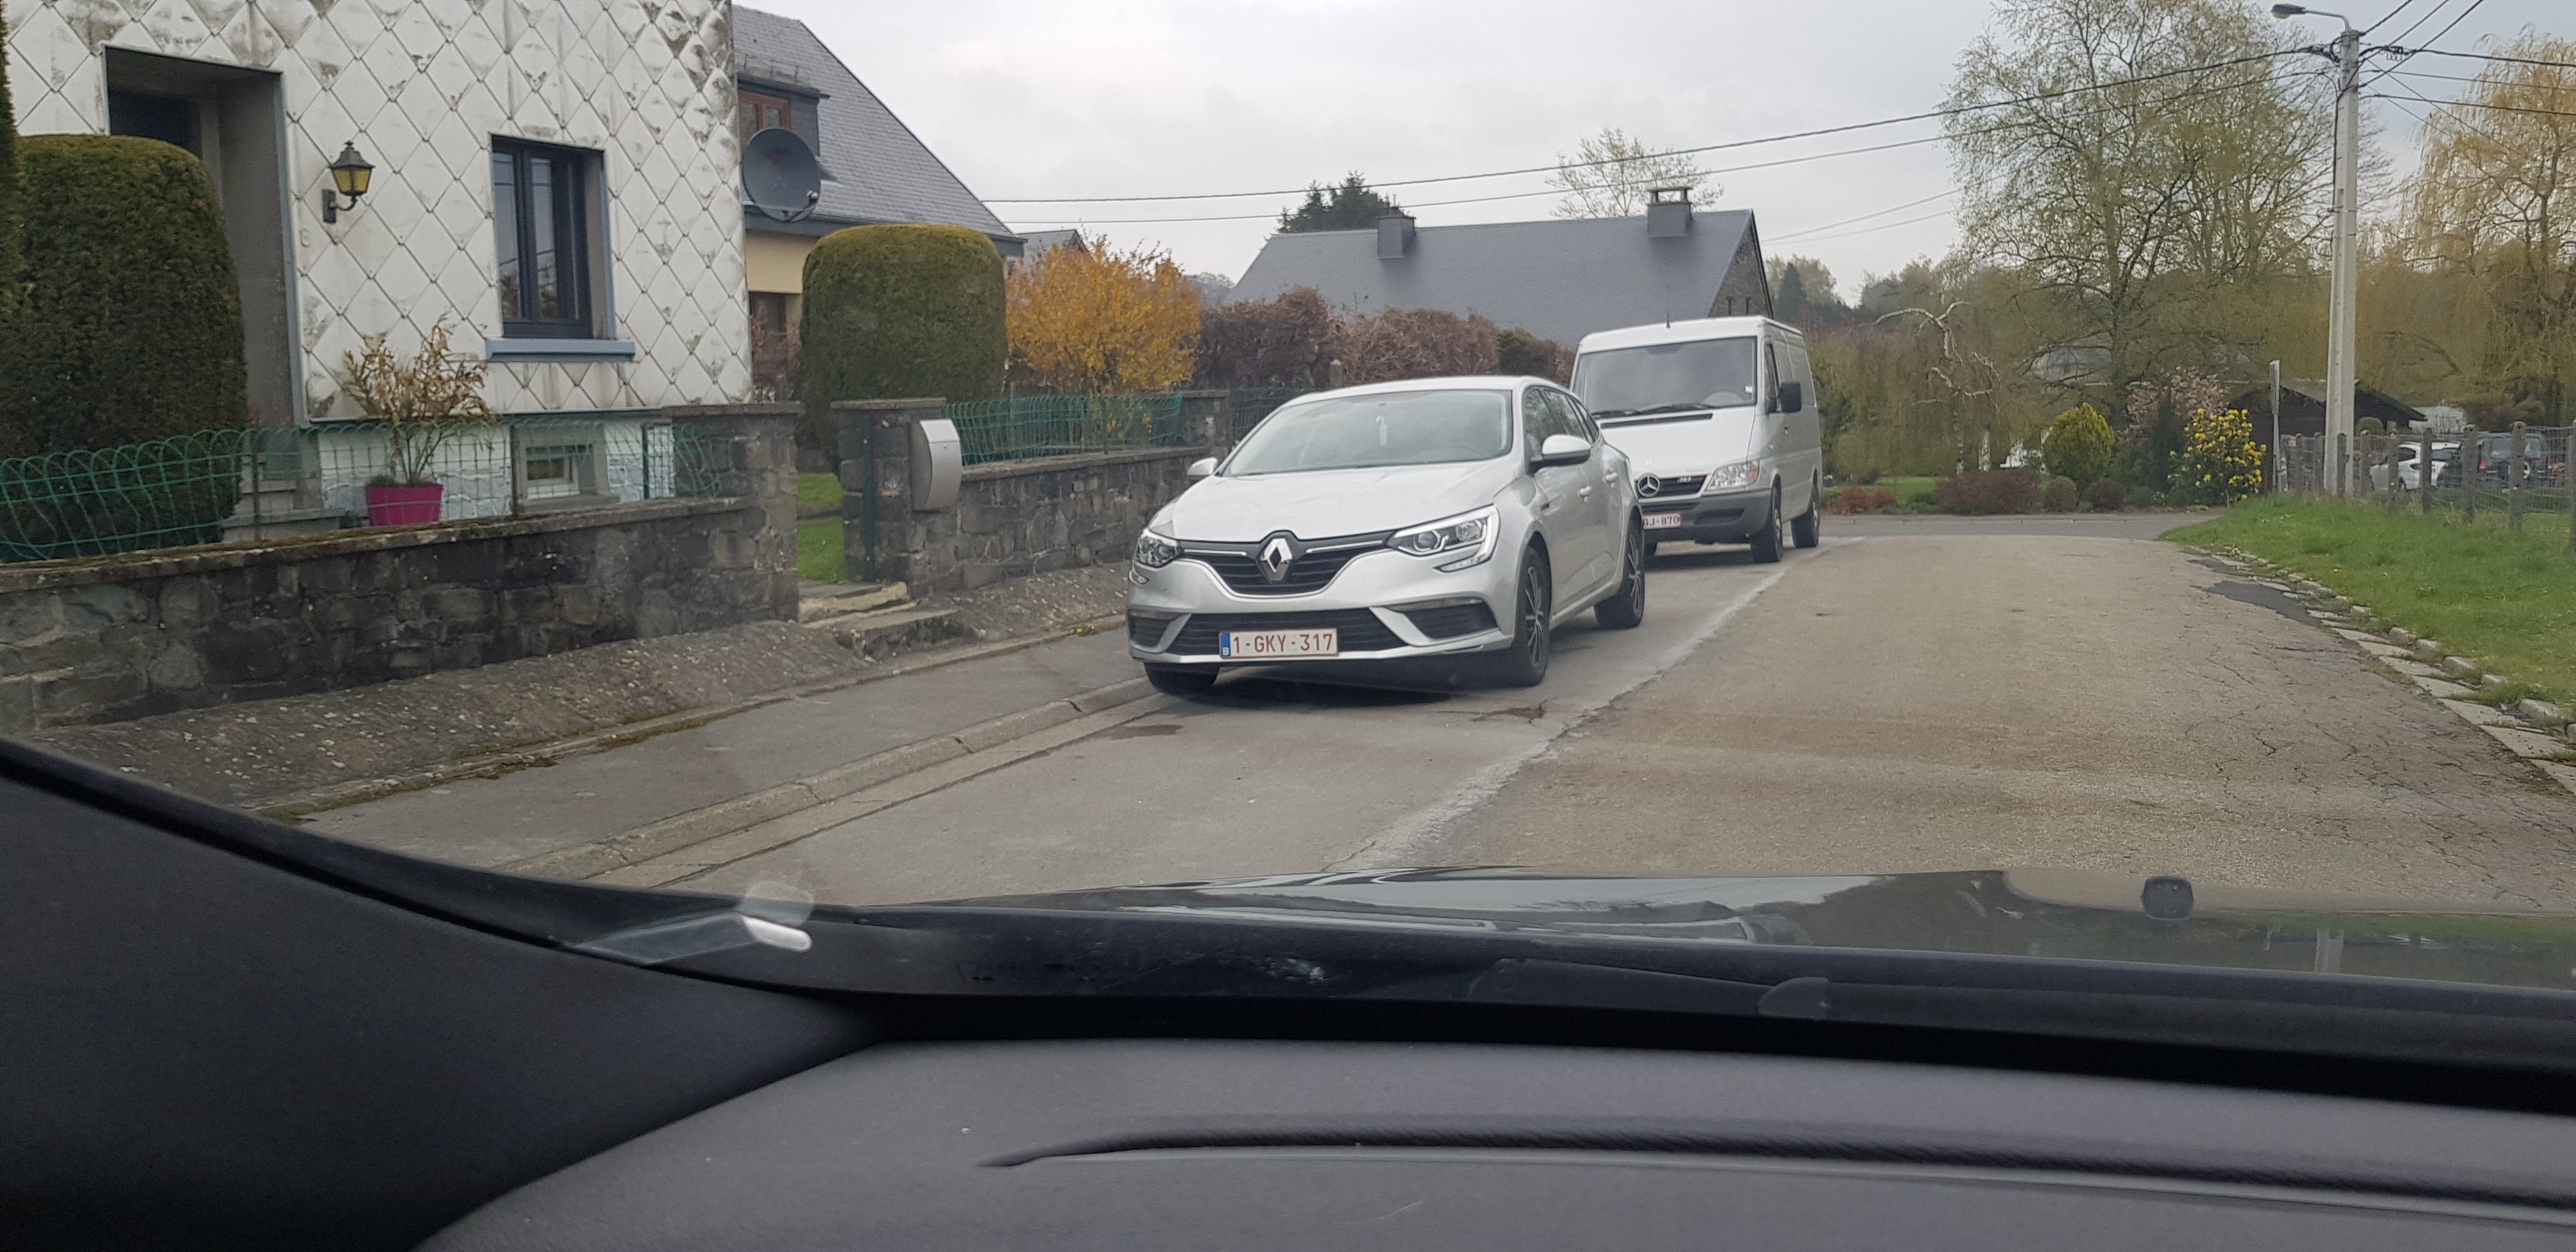licenceplate: (1218, 626, 1339, 659), (1644, 511, 1684, 529)
